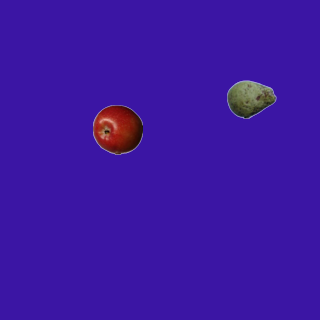Apple Braeburn: (92, 104, 142, 154)
Pear Stone: (226, 74, 276, 124)
